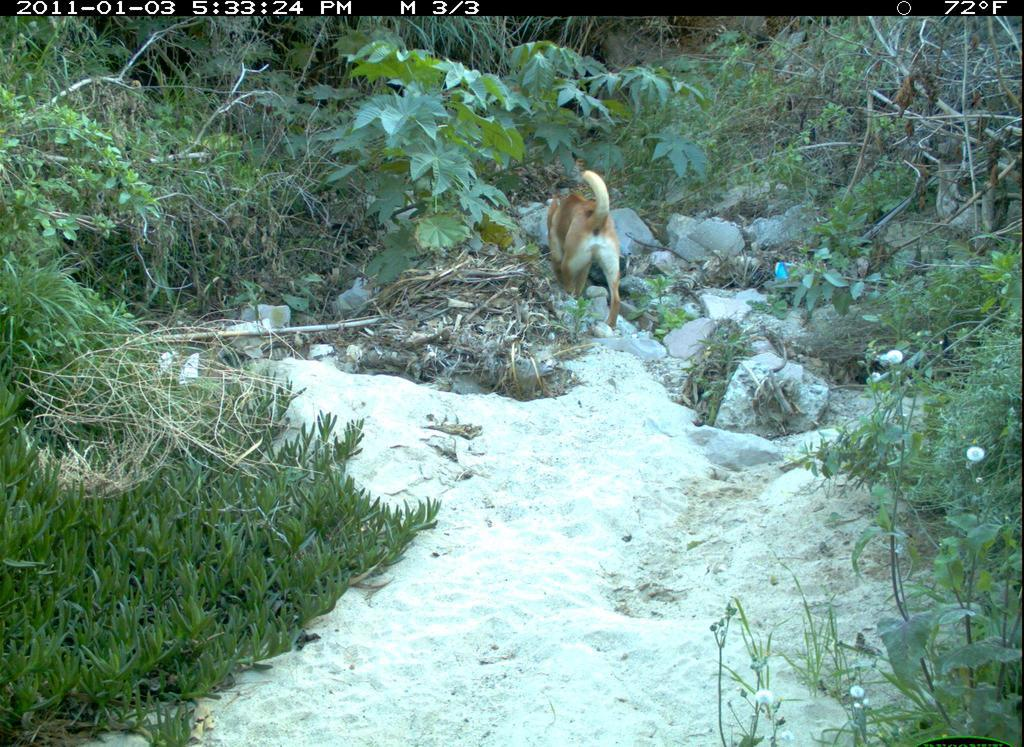dog: (533, 168, 641, 355)
